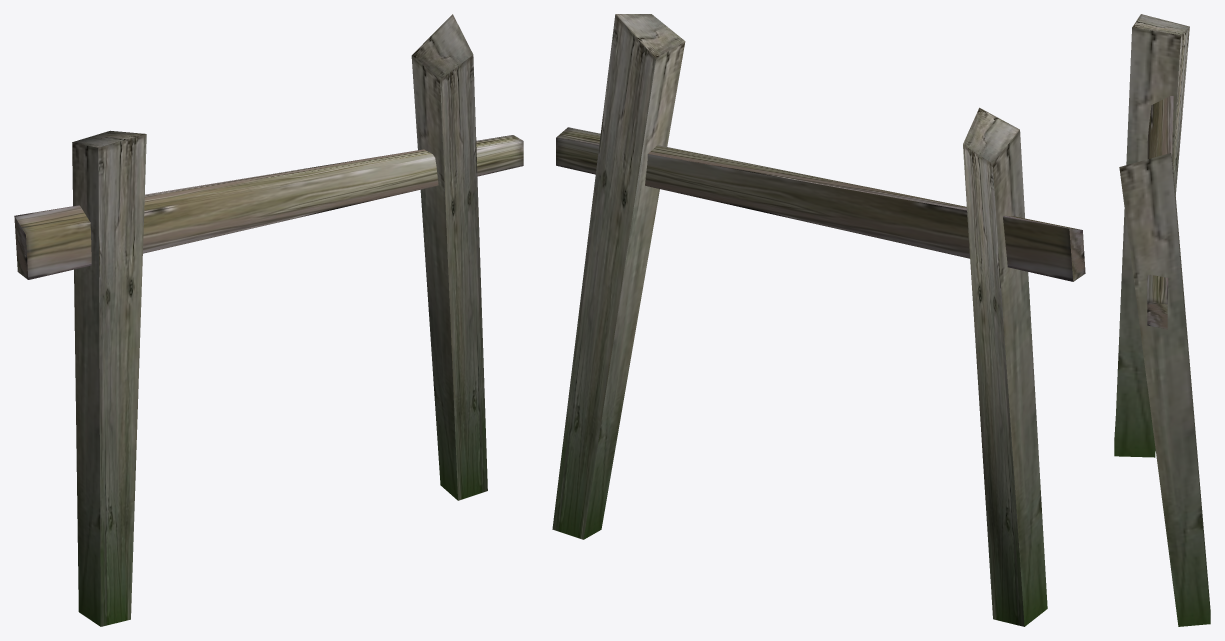
File: pir_m_prp_cem_tombStakes_1.fbx
3 views of the same model, side by side, from view 1: azimuth 30°, elevation 25°; view 2: azimuth 150°, elevation 25°; view 3: azimuth 270°, elevation 25° (orthographic). The views are drawn at different scales.
Visible parts, largest first — view 1: pir_m_prp_fnc_woodfenceGate:woodpost30, pir_m_prp_fnc_woodfenceGate:woodpost36, pir_m_prp_fnc_woodfenceGate:woodpost33; view 2: pir_m_prp_fnc_woodfenceGate:woodpost36, pir_m_prp_fnc_woodfenceGate:woodpost30, pir_m_prp_fnc_woodfenceGate:woodpost33; view 3: pir_m_prp_fnc_woodfenceGate:woodpost36, pir_m_prp_fnc_woodfenceGate:woodpost30, pir_m_prp_fnc_woodfenceGate:woodpost33.
Boxes of the visible parts, box(x1,y1,x2,y2) form: pir_m_prp_fnc_woodfenceGate:woodpost30: box(72, 130, 146, 626); pir_m_prp_fnc_woodfenceGate:woodpost36: box(411, 14, 487, 500); pir_m_prp_fnc_woodfenceGate:woodpost33: box(14, 135, 523, 279); pir_m_prp_fnc_woodfenceGate:woodpost36: box(552, 14, 685, 539); pir_m_prp_fnc_woodfenceGate:woodpost30: box(963, 107, 1047, 626); pir_m_prp_fnc_woodfenceGate:woodpost33: box(556, 127, 1085, 281); pir_m_prp_fnc_woodfenceGate:woodpost36: box(1119, 153, 1210, 626); pir_m_prp_fnc_woodfenceGate:woodpost30: box(1114, 14, 1189, 457); pir_m_prp_fnc_woodfenceGate:woodpost33: box(1147, 96, 1173, 329).
Size of the model in its own units: 542 by 521 by 98.18.
1 material, 1 textured.
